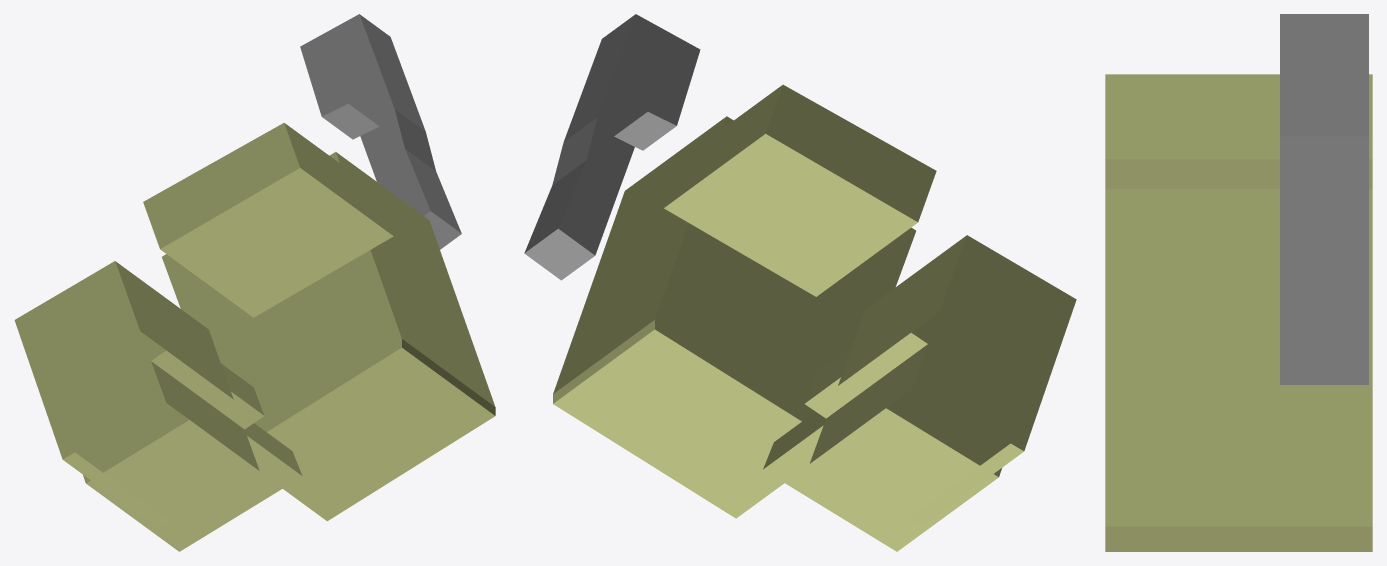
3 views of the same model, side by side, from view 1: azimuth 30°, elevation 25°; view 2: azimuth 150°, elevation 25°; view 3: azimuth 270°, elevation 25° (orthographic). The views are drawn at different scales.
Visible parts, largest first — view 1: 0_1_3_2_2_1_2_2_1_3; view 2: 0_1_3_2_2_1_2_2_1_3; view 3: 0_1_3_2_2_1_2_2_1_3.
Boxes of the visible parts, x1,y1,x2,y2 form: 0_1_3_2_2_1_2_2_1_3: (14,14,495,551); 0_1_3_2_2_1_2_2_1_3: (524,14,1076,551); 0_1_3_2_2_1_2_2_1_3: (1105,14,1372,551).
Size of the model in its own units: 23.03 by 21.71 by 9.
